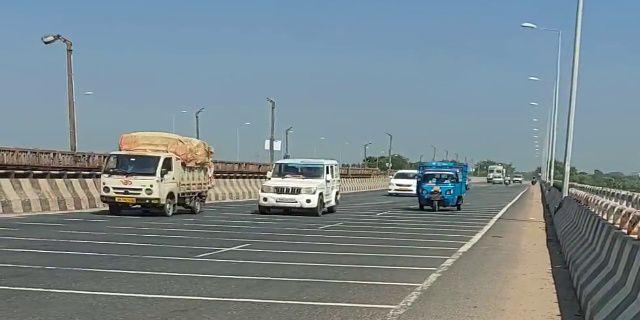Autorickshaw: (414, 159, 468, 217)
Car: (256, 156, 342, 218), (385, 167, 416, 199)
Minitruck: (97, 129, 217, 218)
